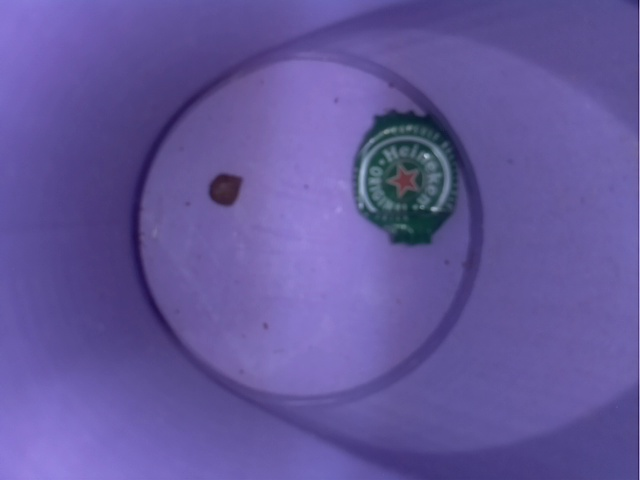capsule: (344, 97, 465, 259)
croquette: (198, 160, 250, 223)
